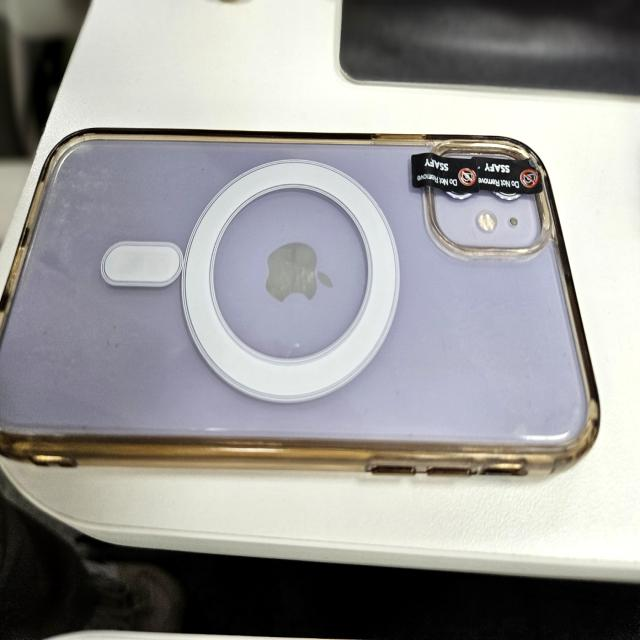phone: (0, 124, 600, 488)
sticker: (472, 151, 542, 197), (408, 153, 478, 194)
